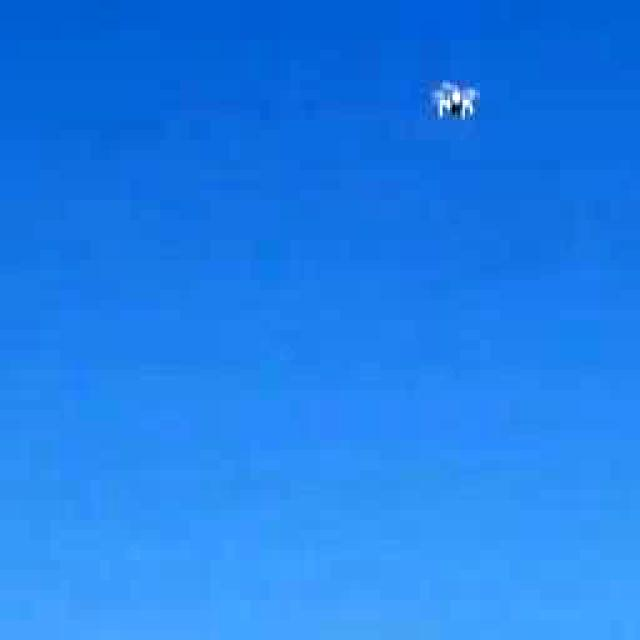bird: (405, 62, 500, 142)
